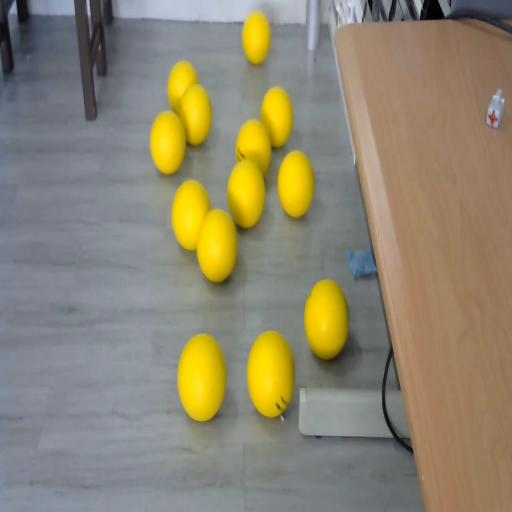FUEL: (176, 332, 228, 421), (246, 329, 296, 417), (302, 279, 348, 360), (196, 207, 239, 283), (227, 159, 266, 229), (277, 150, 314, 218), (150, 110, 186, 174), (261, 86, 294, 148), (180, 83, 212, 146), (242, 10, 271, 65)
